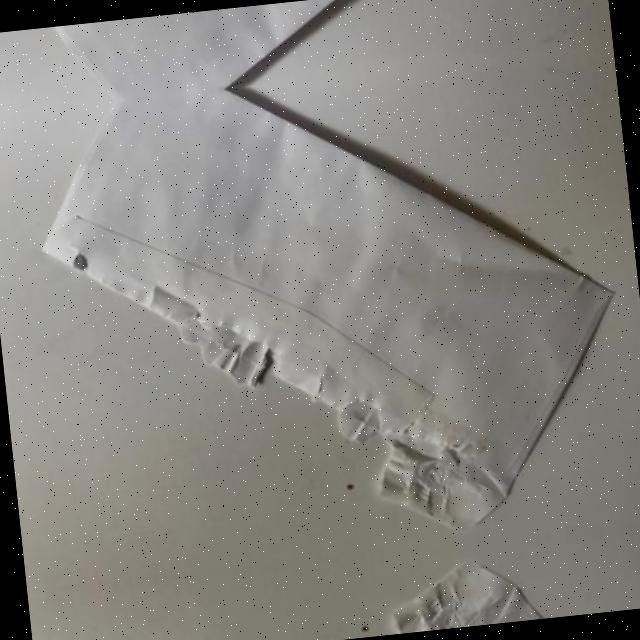paper: (20, 48, 640, 579), (12, 0, 593, 109), (71, 534, 640, 640)
